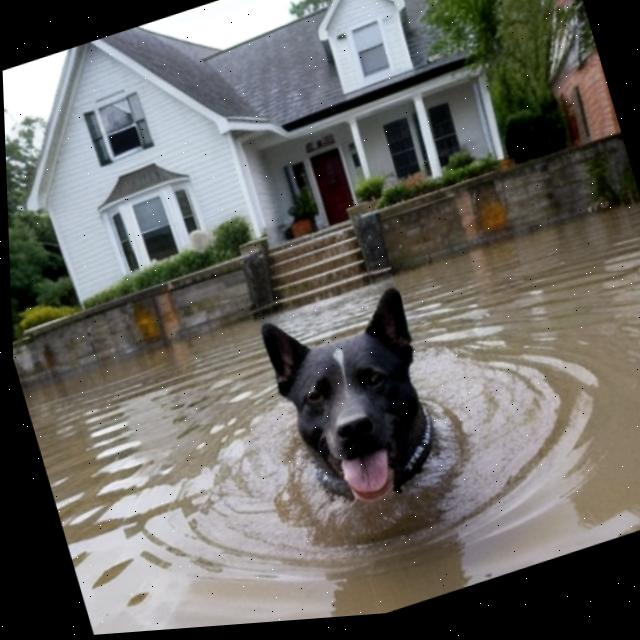dog: (223, 256, 490, 555)
